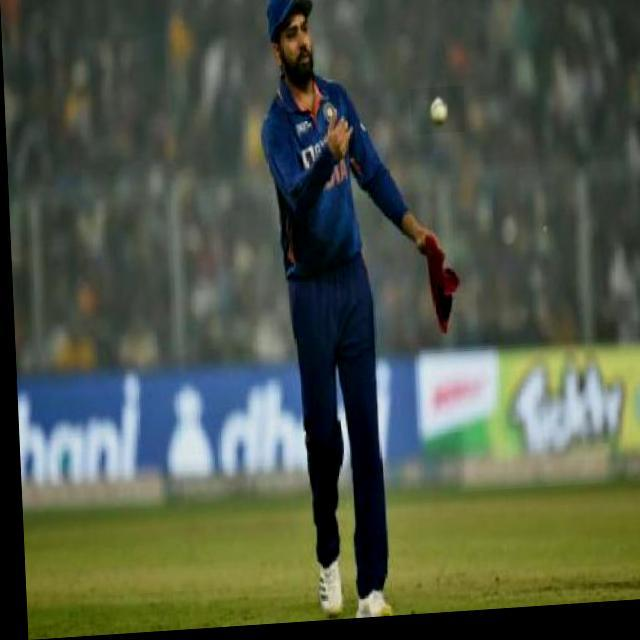-: (409, 92, 464, 141)
